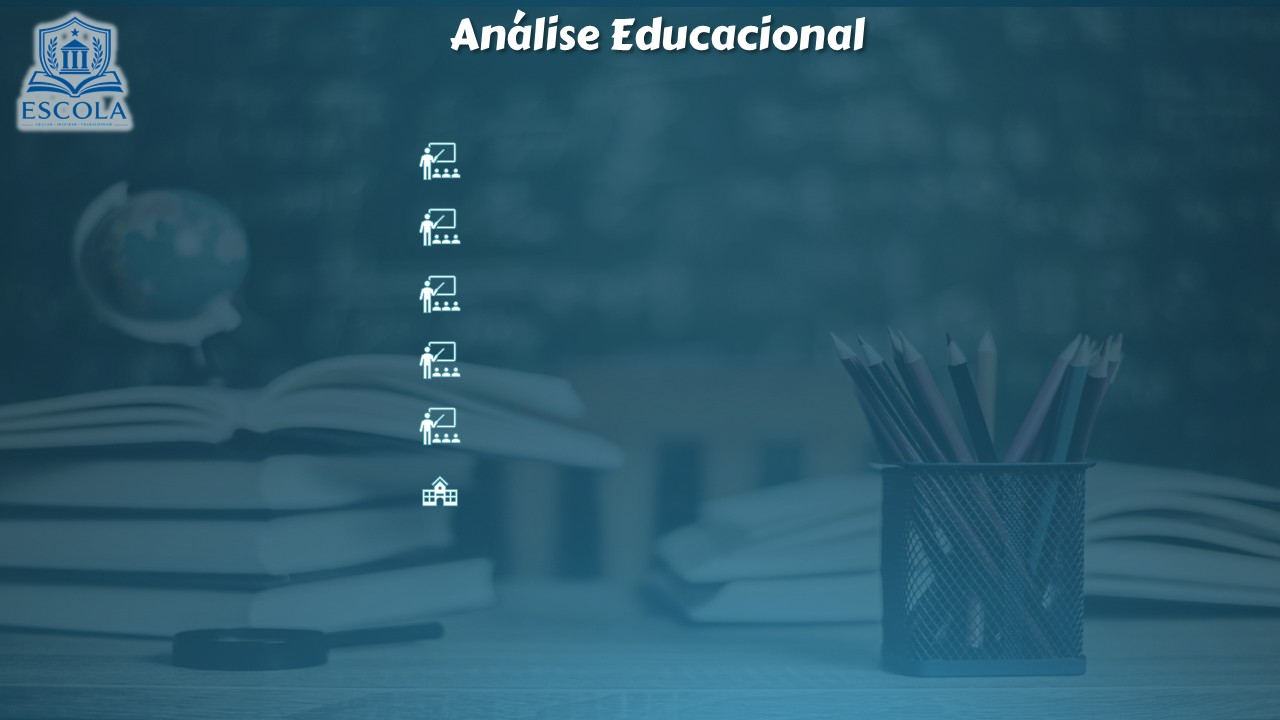

This screenshot's page, from the dashboard's own definition file:
{"tool":"powerbi","page":{"name":"Página inicial","canvas":[1280,720],"ordinal":0},"visuals":[{"type":"pageNavigator","box":[481.5,143,125.5,36],"z":0},{"type":"pageNavigator","box":[481.5,213,125.5,33.1],"z":1000},{"type":"pageNavigator","box":[481.5,276.2,125.5,34],"z":2000},{"type":"pageNavigator","box":[481.5,341.4,125.5,32.1],"z":3000},{"type":"pageNavigator","box":[481.5,404.6,125.5,34],"z":4000},{"type":"pageNavigator","box":[481.5,470.8,125.5,33.1],"z":5000}]}

Visuals, with their boxes in screenshot pixels (x1, y1, x2, y2), scaled from the page's 1280x720 canvas onto the 1280x720 screenshot:
pageNavigator: left=482, top=143, right=607, bottom=179
pageNavigator: left=482, top=213, right=607, bottom=246
pageNavigator: left=482, top=276, right=607, bottom=310
pageNavigator: left=482, top=341, right=607, bottom=374
pageNavigator: left=482, top=405, right=607, bottom=439
pageNavigator: left=482, top=471, right=607, bottom=504
